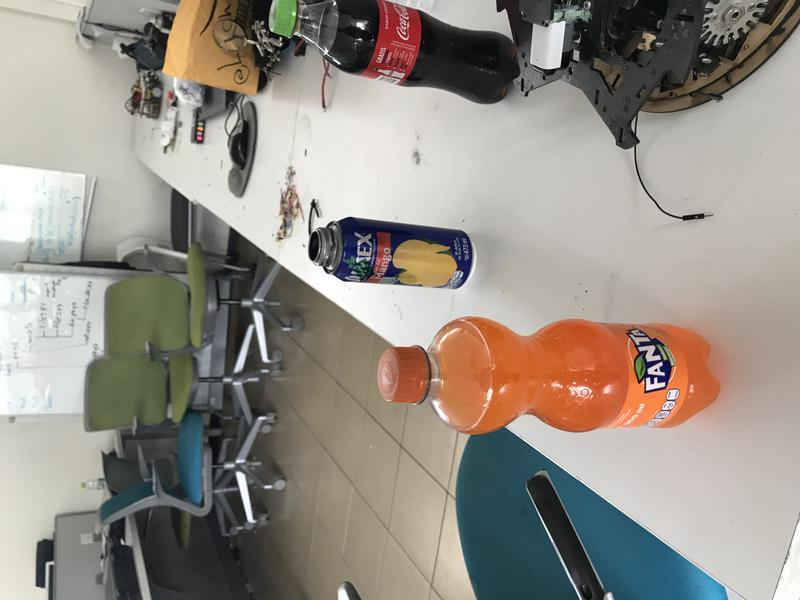coca_cola: (269, 1, 523, 104)
fanta: (377, 316, 722, 434)
jumex_botella: (307, 216, 477, 290)
